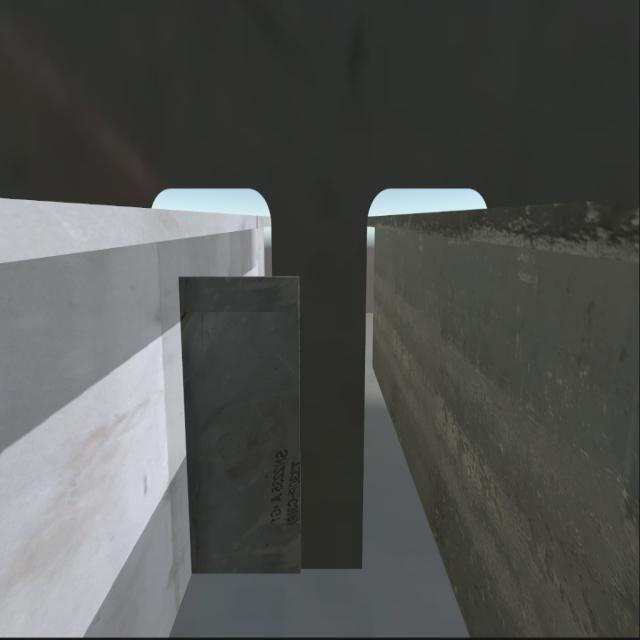fillet_yong_jeop_jang: (178, 563, 376, 584)
longi_yong_jeop_jang: (180, 270, 198, 574)
plate_CP01: (188, 274, 304, 572)
